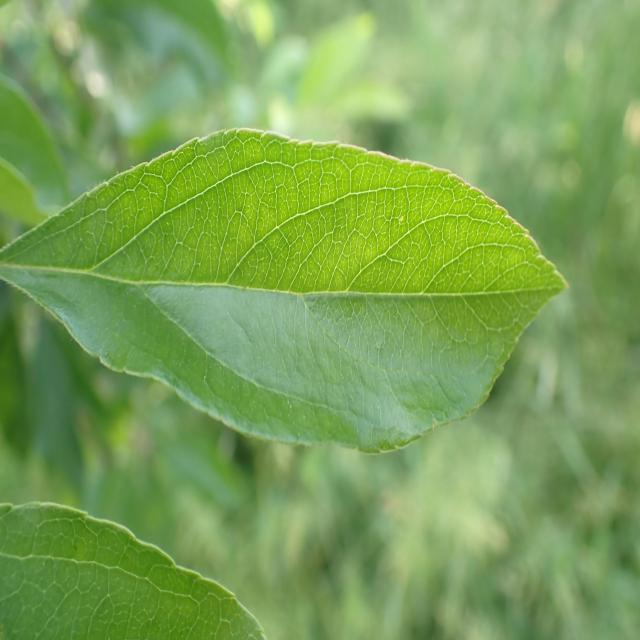healthy: (1, 127, 572, 454), (1, 500, 268, 640)
